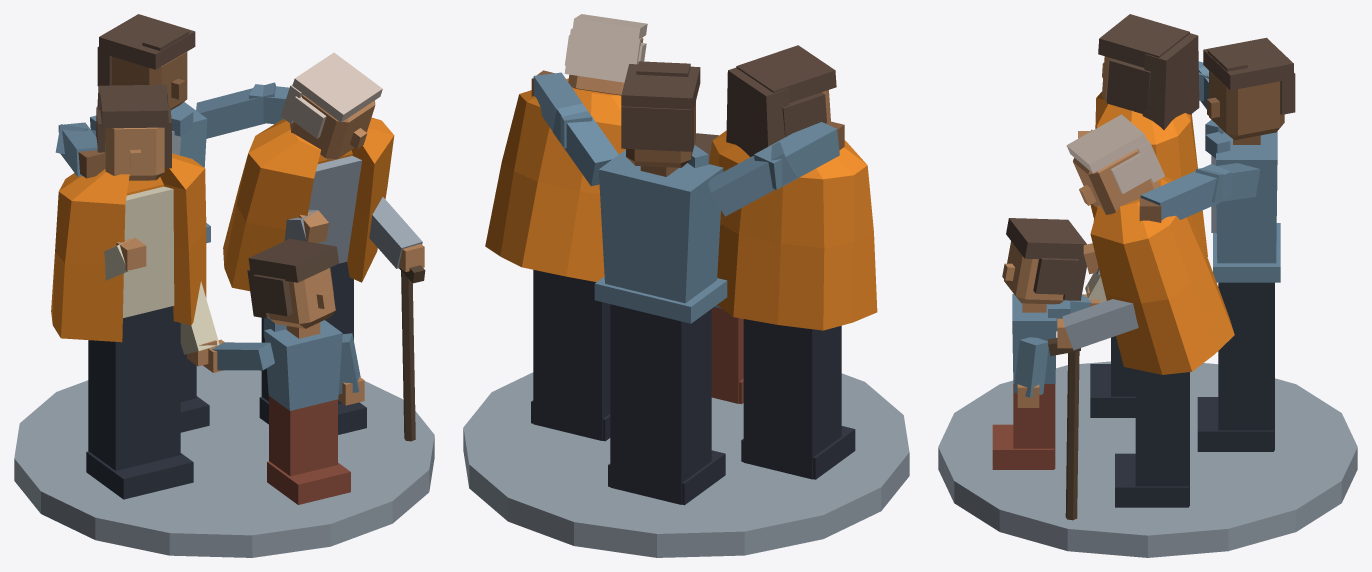
Rendered from civ-group.glb.
3 renders of one model, left to right at view 1: azimuth 30°, elevation 25°; view 2: azimuth 150°, elevation 25°; view 3: azimuth 270°, elevation 25°, orthographic. The views are drawn at different scales.
Visible parts, largest first — view 1: base, fig0_upper, fig3_upper, fig0_legs, fig1_upper, fig2_upper, fig1_legs, fig3_legs, fig2_legs; view 2: base, fig2_upper, fig0_upper, fig3_upper, fig2_legs, fig0_legs, fig3_legs, fig1_legs; view 3: base, fig3_upper, fig2_upper, fig0_upper, fig1_upper, fig2_legs, fig3_legs, fig1_legs, fig0_legs.
Boxes of the visible parts, x1,y1,x2,y2 form: base: [14, 365, 434, 557]; fig0_upper: [51, 84, 219, 366]; fig3_upper: [223, 52, 425, 441]; fig0_legs: [86, 306, 193, 499]; fig1_upper: [203, 239, 364, 410]; fig2_upper: [55, 14, 289, 243]; fig1_legs: [267, 396, 350, 504]; fig3_legs: [259, 262, 366, 434]; fig2_legs: [180, 343, 209, 432]; base: [463, 372, 909, 557]; fig2_upper: [531, 61, 844, 323]; fig0_upper: [709, 45, 877, 330]; fig3_upper: [485, 14, 647, 281]; fig2_legs: [608, 304, 725, 505]; fig0_legs: [741, 319, 855, 479]; fig3_legs: [531, 270, 610, 441]; fig1_legs: [711, 307, 743, 403]; base: [938, 361, 1357, 557]; fig3_upper: [1048, 114, 1234, 520]; fig2_upper: [1139, 37, 1295, 282]; fig0_upper: [1078, 14, 1207, 303]; fig1_upper: [1002, 218, 1099, 407]; fig2_legs: [1197, 282, 1274, 451]; fig3_legs: [1115, 369, 1189, 507]; fig1_legs: [992, 384, 1055, 469]; fig0_legs: [1090, 336, 1135, 417].
Bounding box in the file's own units: 0.85 × 0.901 × 0.85.
